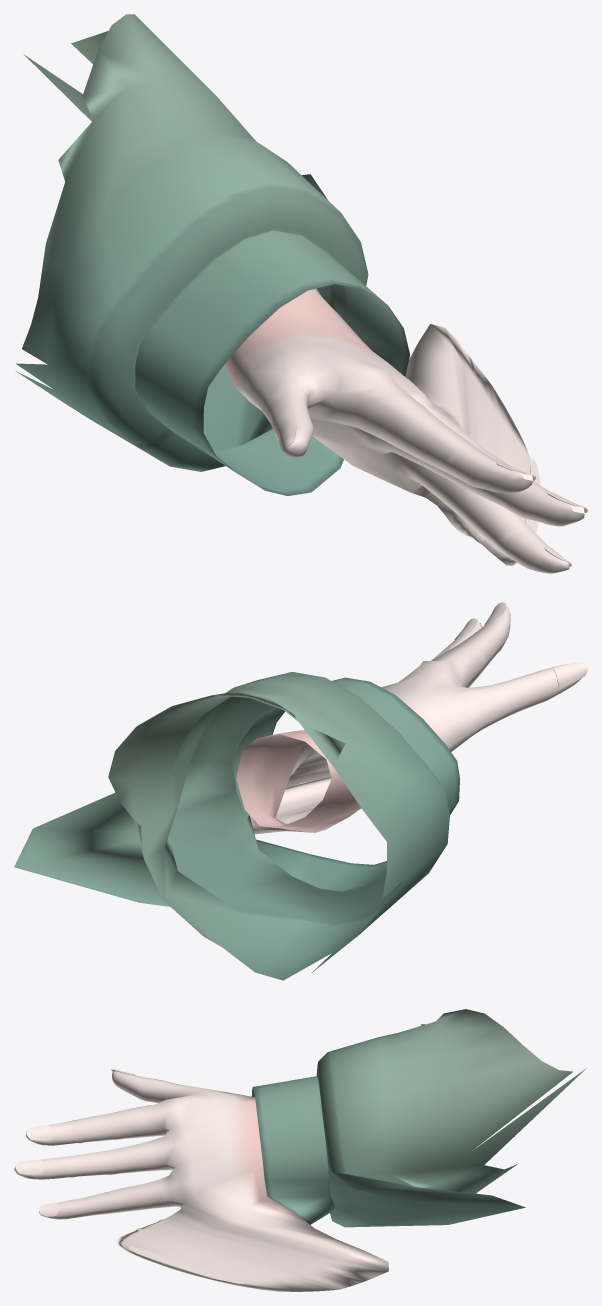
Rendered from NijikaSnare.obj.
The picture shows the model from 3 angles, top to bottom: view 1: azimuth 30°, elevation 25°; view 2: azimuth 150°, elevation 25°; view 3: azimuth 270°, elevation 25°; orthographic projection. The views are drawn at different scales.
Size of the model in its own units: 0.2584 by 0.2124 by 0.5215.
2 materials, 2 textured.
